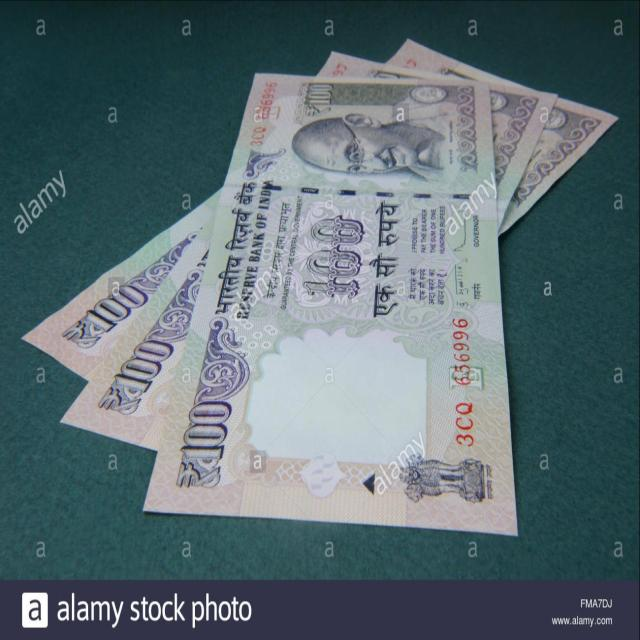100IndianRupees: (143, 79, 497, 513)
